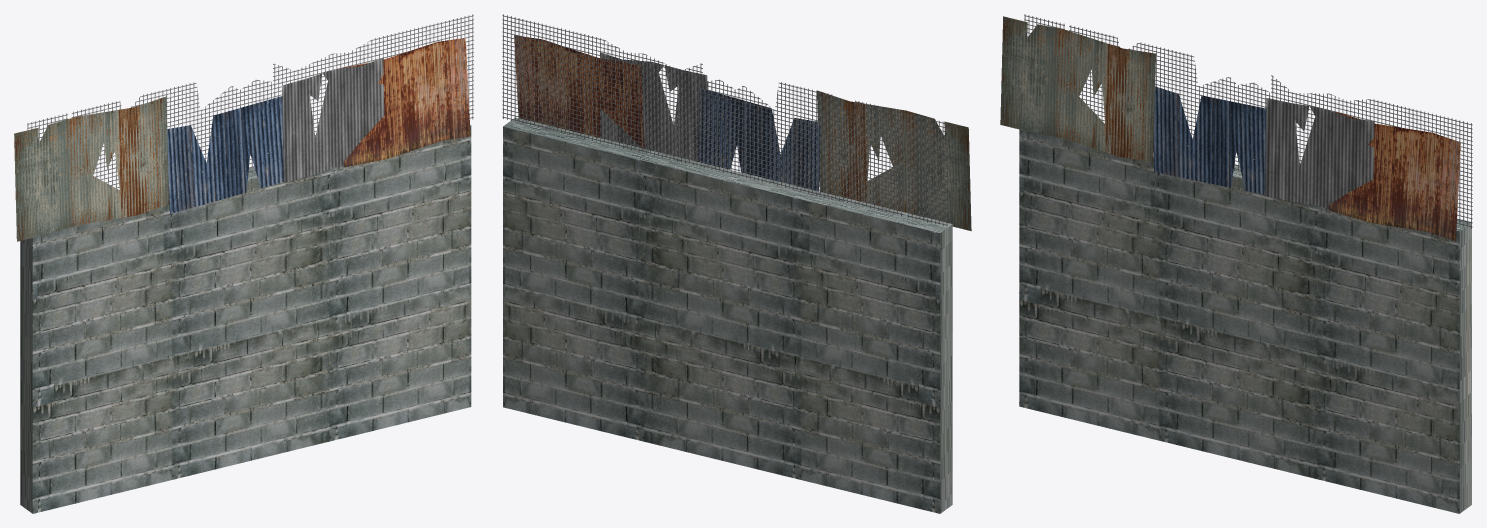
Rendered from Modular Block Wall Variant2.glb.
3 views of the same model, side by side, from view 1: azimuth 30°, elevation 25°; view 2: azimuth 150°, elevation 25°; view 3: azimuth 330°, elevation 25° (orthographic).
Visible parts, largest first — view 1: Hollowblock Wall.001, rusty metal 2.001, rusty metal.001, rusty metal 3.001, ROof 2.001, Screen.004, Screen.003; view 2: Hollowblock Wall.001, rusty metal 2.001, Screen.004, Screen.003, rusty metal.001, rusty metal 3.001, ROof 2.001, Screen.005; view 3: Hollowblock Wall.001, rusty metal 2.001, rusty metal.001, ROof 2.001, rusty metal 3.001, Screen.004, Screen.003.
Boxes of the visible parts, box(x1,y1,x2,y2) form: Hollowblock Wall.001: box(20, 124, 471, 513); rusty metal 2.001: box(14, 96, 169, 241); rusty metal.001: box(340, 37, 470, 167); rusty metal 3.001: box(167, 96, 283, 214); ROof 2.001: box(282, 58, 384, 182); Screen.004: box(273, 14, 473, 135); Screen.003: box(71, 80, 272, 188); Hollowblock Wall.001: box(503, 117, 952, 513); rusty metal 2.001: box(817, 90, 971, 231); Screen.004: box(502, 14, 702, 167); Screen.003: box(703, 79, 903, 216); rusty metal.001: box(514, 35, 644, 148); rusty metal 3.001: box(698, 88, 819, 191); ROof 2.001: box(600, 52, 707, 161); Screen.005: box(907, 113, 947, 226); Hollowblock Wall.001: box(1019, 129, 1471, 513); rusty metal 2.001: box(1000, 16, 1155, 161); rusty metal.001: box(1328, 111, 1460, 241); ROof 2.001: box(1265, 98, 1374, 208); rusty metal 3.001: box(1153, 86, 1265, 194); Screen.004: box(1271, 75, 1472, 228); Screen.003: box(1069, 25, 1270, 171).
Size of the model in its own units: 10.71 by 8.55 by 0.63.
Materials: 6 (6 with a texture image).
